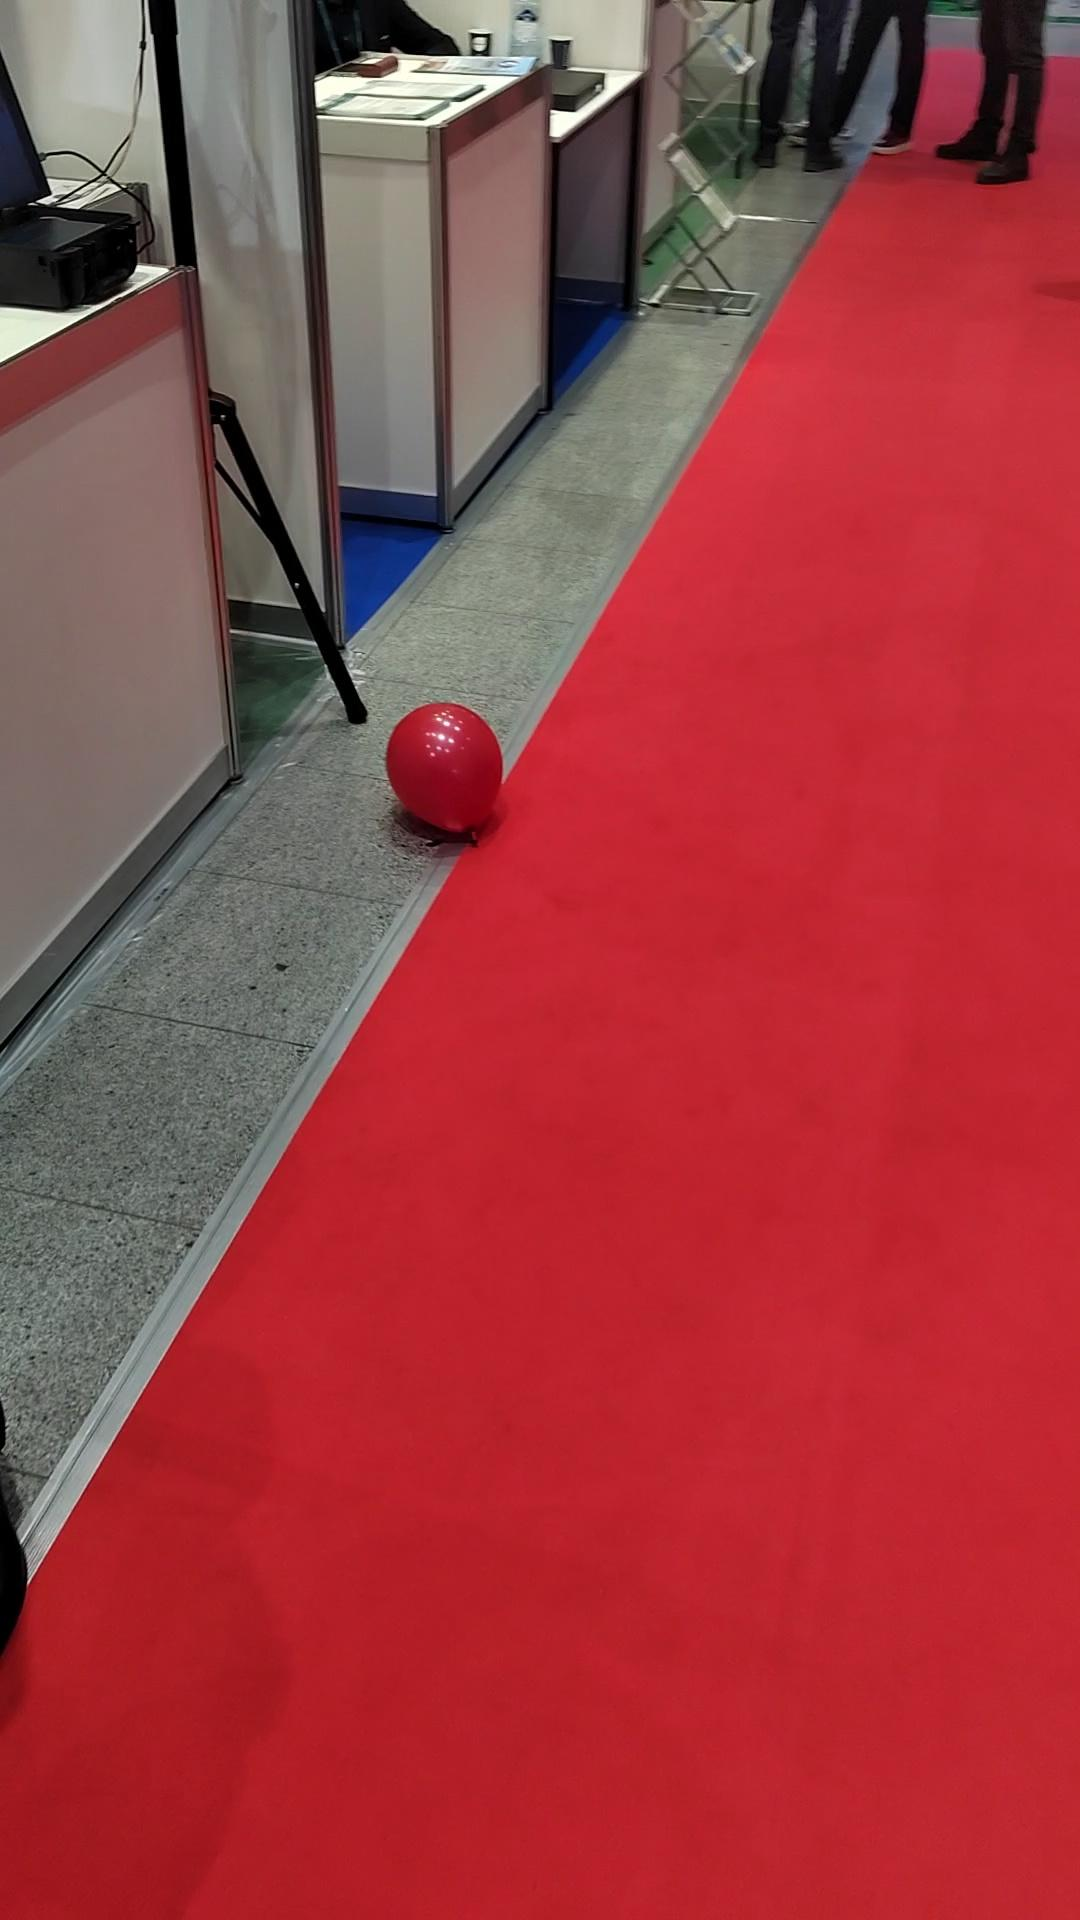red: (380, 697, 507, 851)
